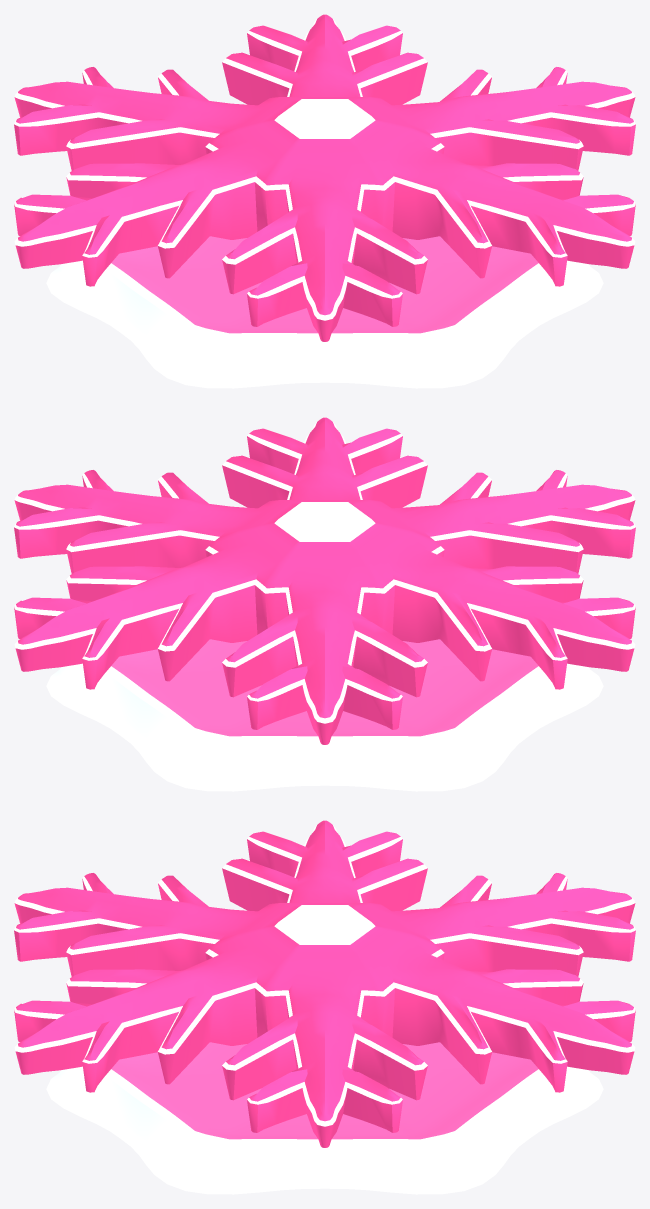
File: Ice_Snowflake_Crimson.glb
3 renders of one model, top to bottom at view 1: azimuth 30°, elevation 25°; view 2: azimuth 150°, elevation 25°; view 3: azimuth 270°, elevation 25°, orthographic.
Parts seen in each view (by area): view 1: Button_Crimson_Surface, Button_Crimson_Frame; view 2: Button_Crimson_Surface, Button_Crimson_Frame; view 3: Button_Crimson_Surface, Button_Crimson_Frame.
Part boxes in pixels (<box>): Button_Crimson_Surface: <box>14,14,635,341</box>; Button_Crimson_Frame: <box>46,236,603,388</box>; Button_Crimson_Surface: <box>14,417,635,744</box>; Button_Crimson_Frame: <box>46,639,603,791</box>; Button_Crimson_Surface: <box>14,820,635,1147</box>; Button_Crimson_Frame: <box>46,1042,603,1194</box>.
Bounding box in the file's own units: 2 × 0.525 × 1.74.
